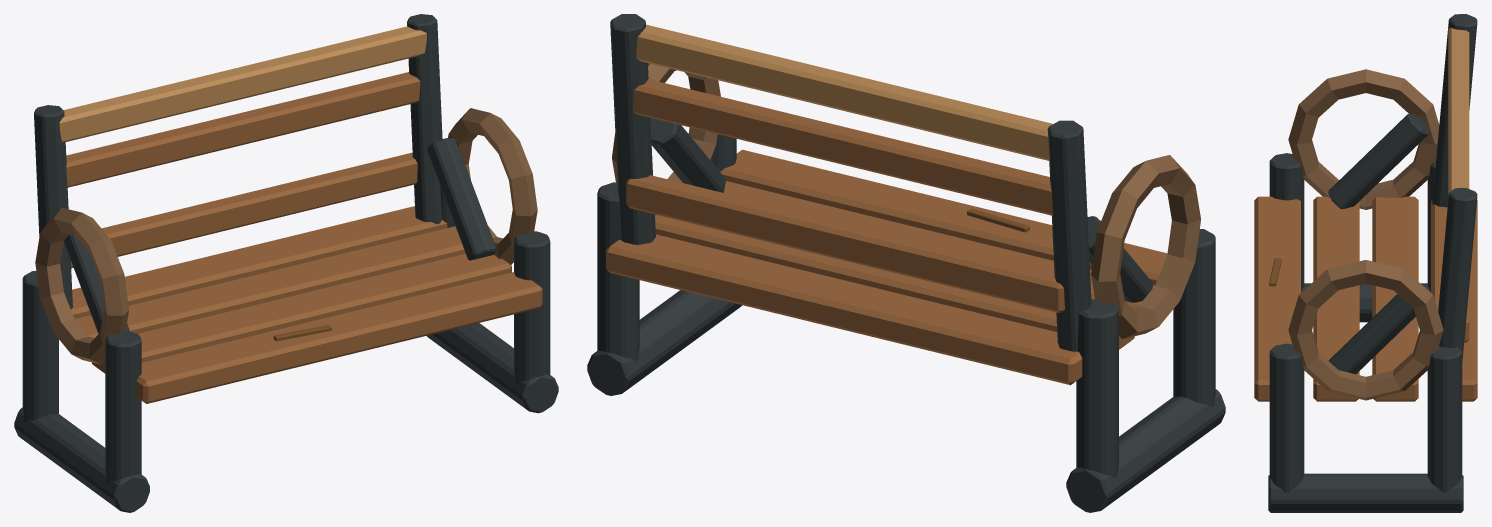
File: runtime.glb
3 renders of one model, left to right at view 1: azimuth 30°, elevation 25°; view 2: azimuth 150°, elevation 25°; view 3: azimuth 270°, elevation 25°, orthographic. The views are drawn at different scales.
Visible parts, largest first — view 1: eiffel-historic-bench-v10_nocol; view 2: eiffel-historic-bench-v10_nocol; view 3: eiffel-historic-bench-v10_nocol.
Part boxes in pixels (x1,y1,x2,y2): eiffel-historic-bench-v10_nocol: (14,14,558,512); eiffel-historic-bench-v10_nocol: (587,14,1225,512); eiffel-historic-bench-v10_nocol: (1254,14,1477,512).
Bounding box in the file's own units: 1.75 × 1.23 × 0.7968.
